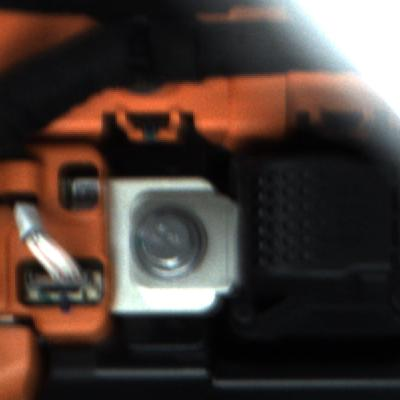nut_b: (120, 200, 211, 286)
